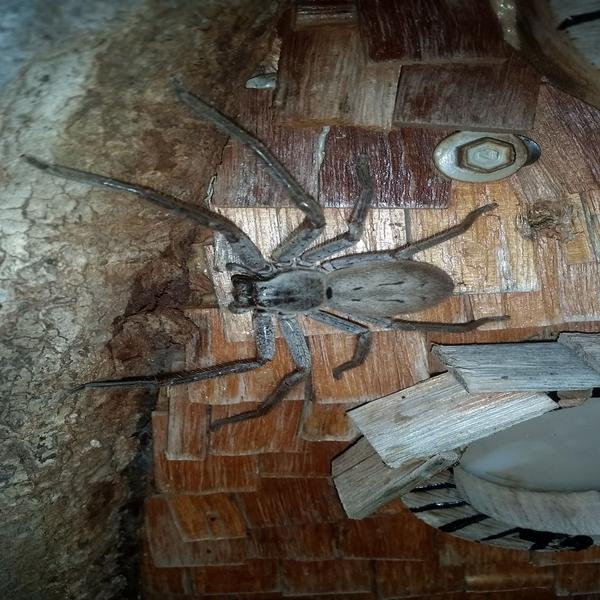Huntsman Spider: (35, 91, 499, 419)
